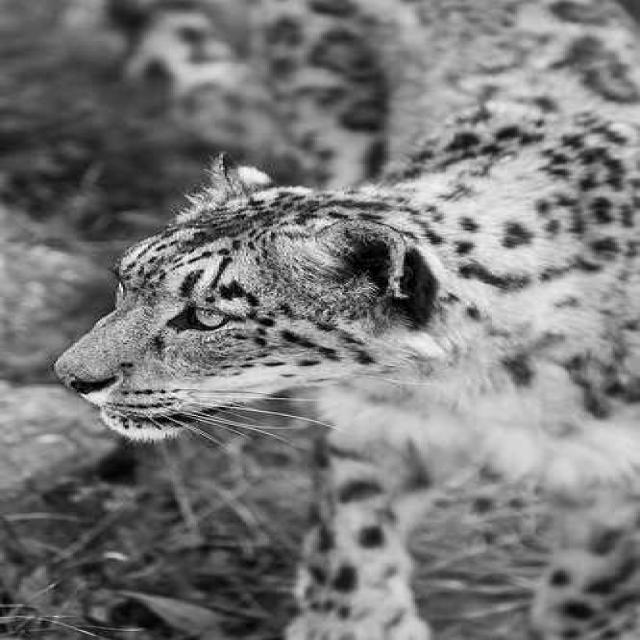Leopard: (50, 0, 638, 639)
